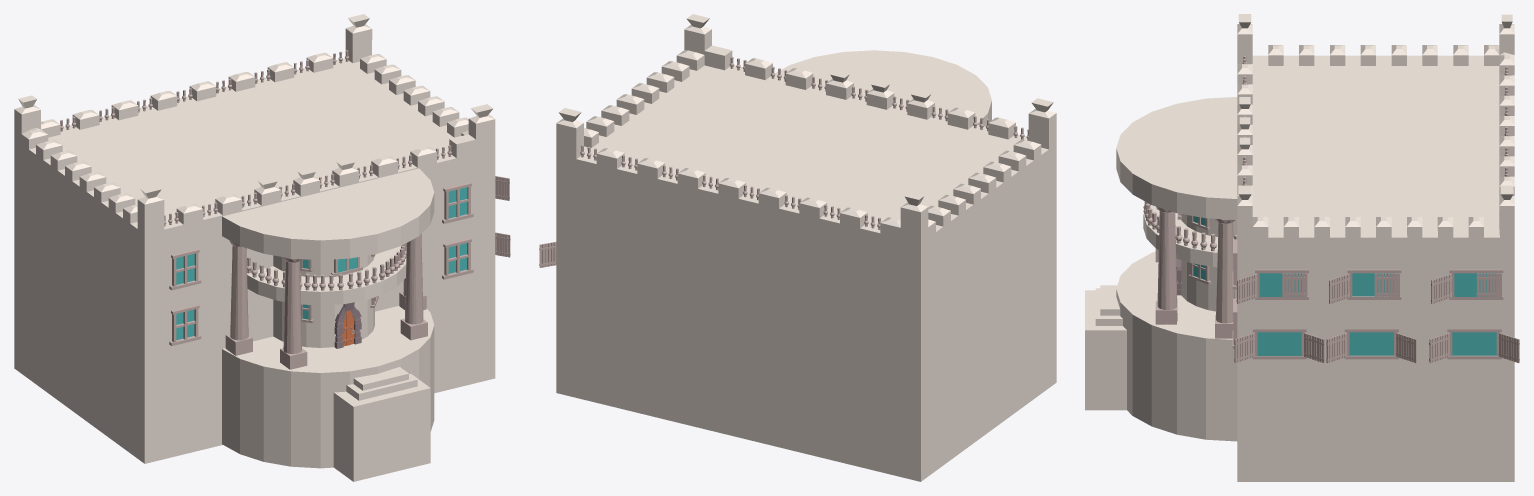
The model's file is House_of_direction.fbx.
3 views of the same model, side by side, from view 1: azimuth 30°, elevation 25°; view 2: azimuth 150°, elevation 25°; view 3: azimuth 270°, elevation 25° (orthographic). The views are drawn at different scales.
Parts seen in each view (by area): view 1: House_of_direction; view 2: House_of_direction; view 3: House_of_direction.
Boxes of the visible parts, x1,y1,x2,y2 form: House_of_direction: (14, 14, 510, 481); House_of_direction: (539, 14, 1056, 481); House_of_direction: (1085, 14, 1519, 481).
Size of the model in its own units: 2664 by 2748 by 1940.
